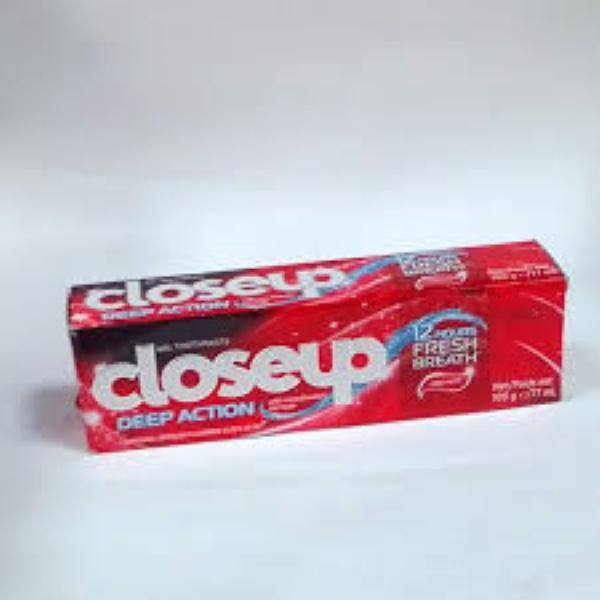CloseUp: (45, 240, 578, 462)
